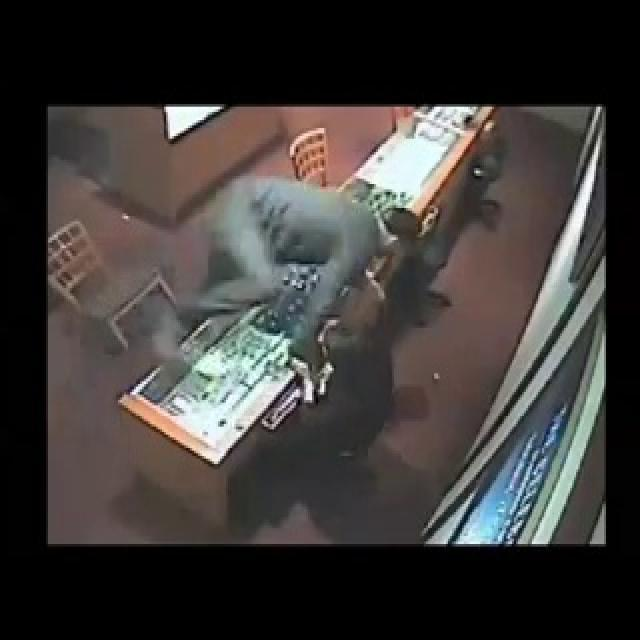Shoplifting: (171, 152, 443, 488)
